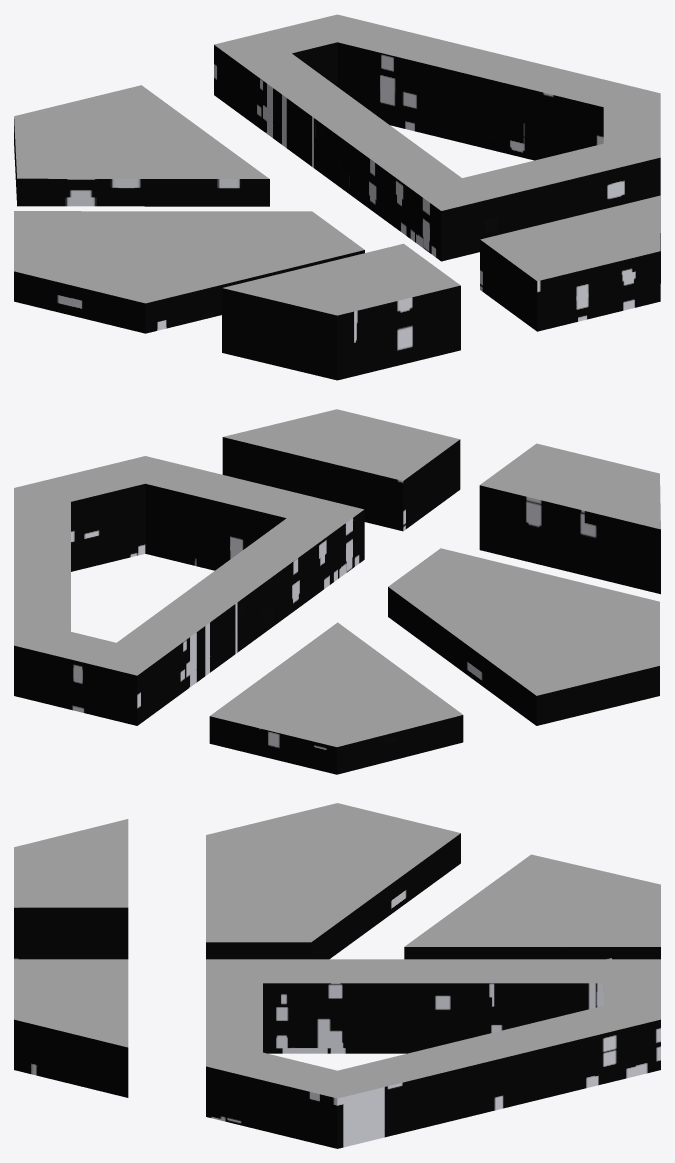
The model's file is Downtown05.fbx.
3 renders of one model, top to bottom at view 1: azimuth 30°, elevation 25°; view 2: azimuth 150°, elevation 25°; view 3: azimuth 270°, elevation 25°, orthographic.
Parts seen in each view (by area): view 1: Downtown05; view 2: Downtown05; view 3: Downtown05.
Boxes of the visible parts, x1,y1,x2,y2 form: Downtown05: [14, 14, 660, 380]; Downtown05: [14, 409, 660, 774]; Downtown05: [14, 803, 660, 1148].
Size of the model in its own units: 1.87 by 0.2341 by 1.62.
Materials: 2 (1 with a texture image).
